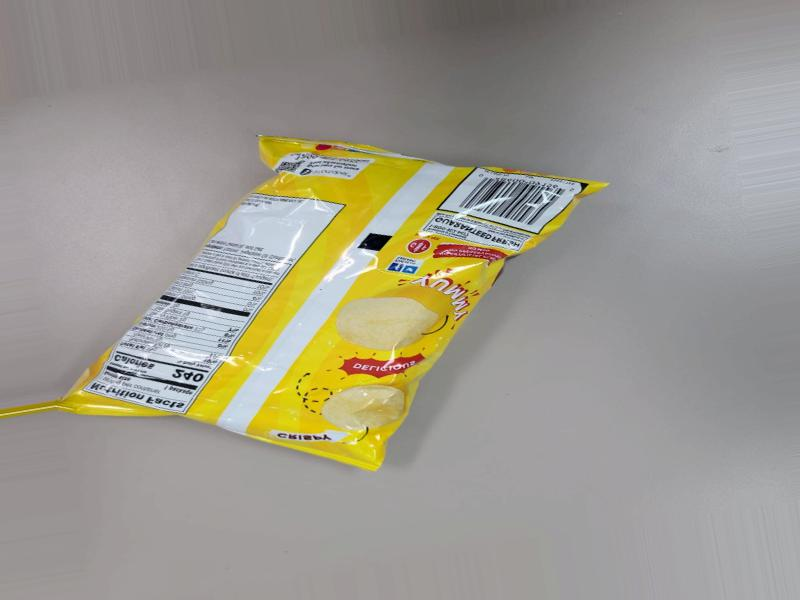lays: (0, 167, 575, 455)
